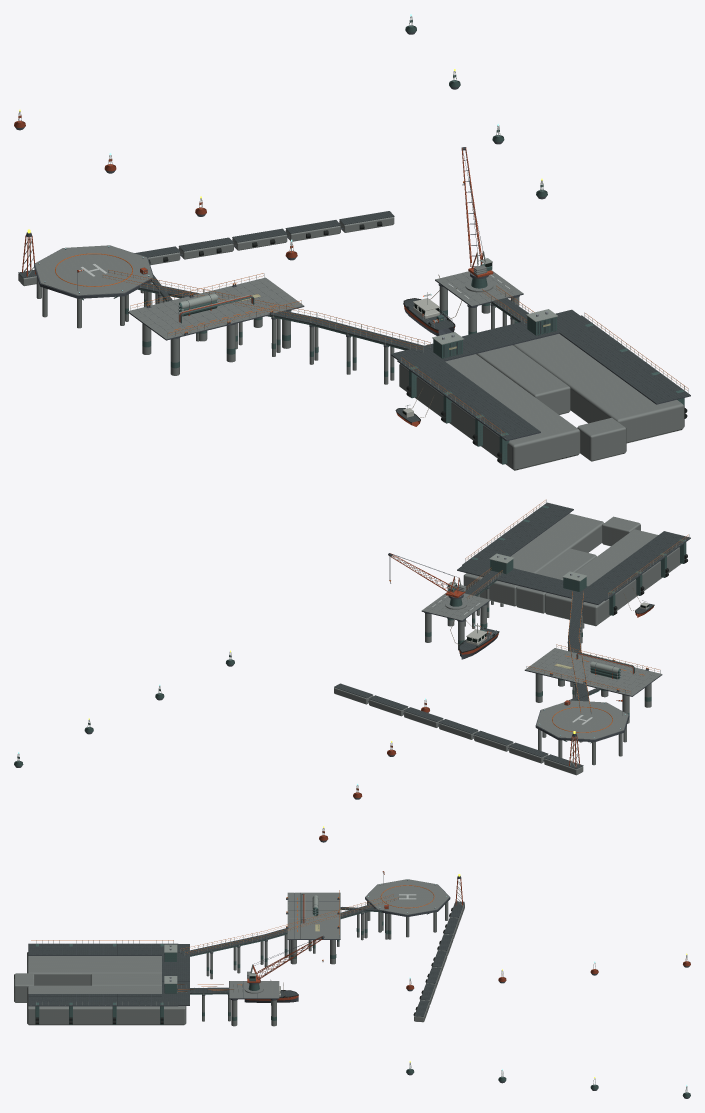
Rendered from apron.fbx.
3 renders of one model, top to bottom at view 1: azimuth 30°, elevation 25°; view 2: azimuth 150°, elevation 25°; view 3: azimuth 270°, elevation 25°, orthographic. The views are drawn at different scales.
Parts seen in each view (by area): view 1: SM_anchor_apron; view 2: SM_anchor_apron; view 3: SM_anchor_apron.
Boxes of the visible parts, box(x1,y1,x2,y2) form: SM_anchor_apron: box(14, 14, 690, 470); SM_anchor_apron: box(14, 499, 690, 842); SM_anchor_apron: box(14, 871, 690, 1098).
Bounding box in the file's own units: 116 × 26.19 × 171.
17 materials, 14 textured.
